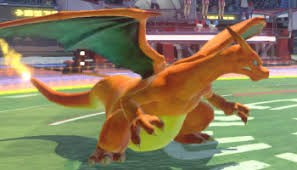charizard: (1, 8, 271, 168)
